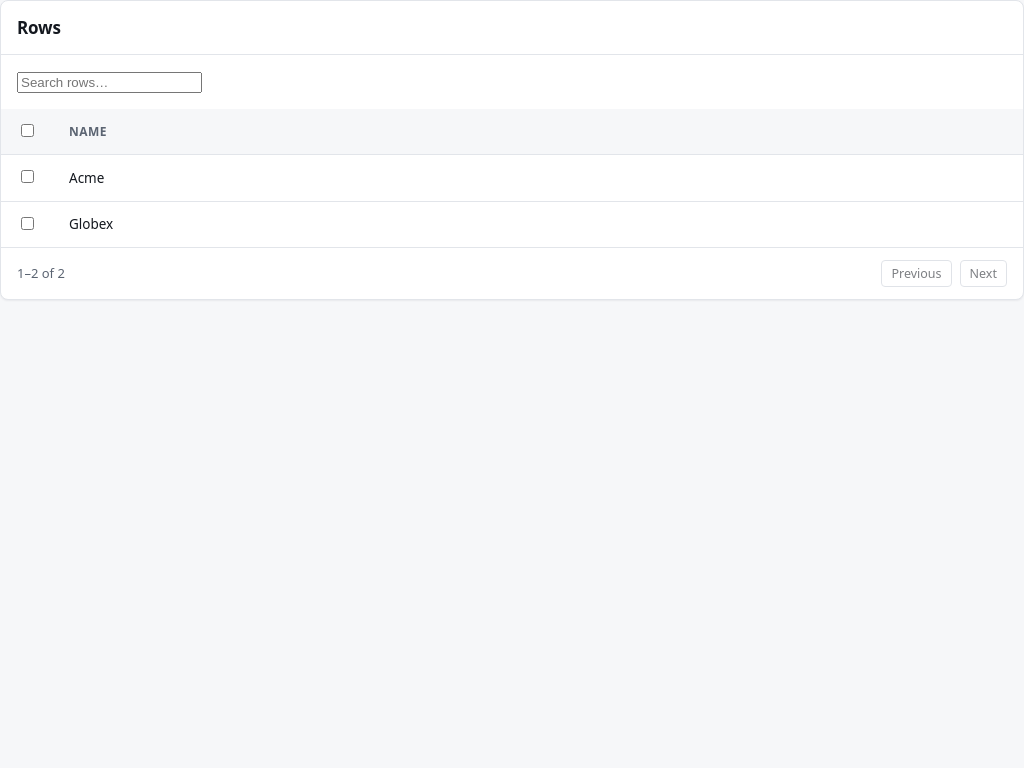
Test: bulk archive › shows the failure when the request itself is refused
The image size is (1024, 768).
expect the text "Acme" is shown: met, box x1=53 y1=155 x2=1023 y2=201
Click the checkbox named "Select all rows on this page" at (28, 131), box x1=21 y1=124 x2=34 y2=137
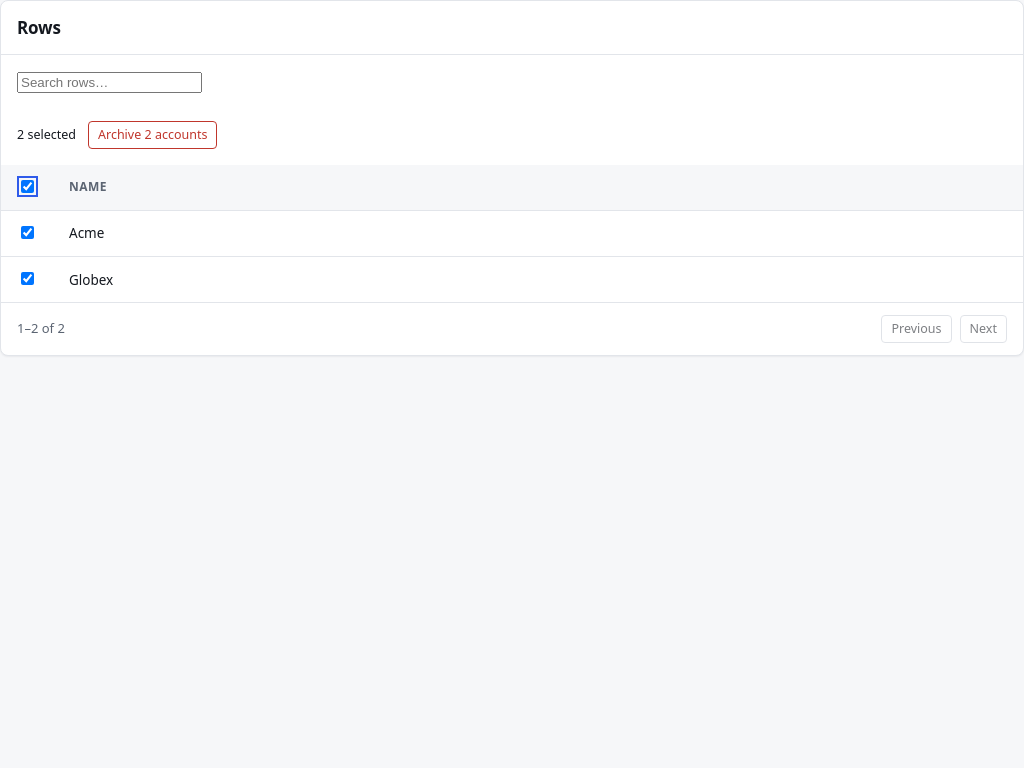
Click the button "Archive 2 accounts" at (153, 135), box x1=88 y1=121 x2=218 y2=149
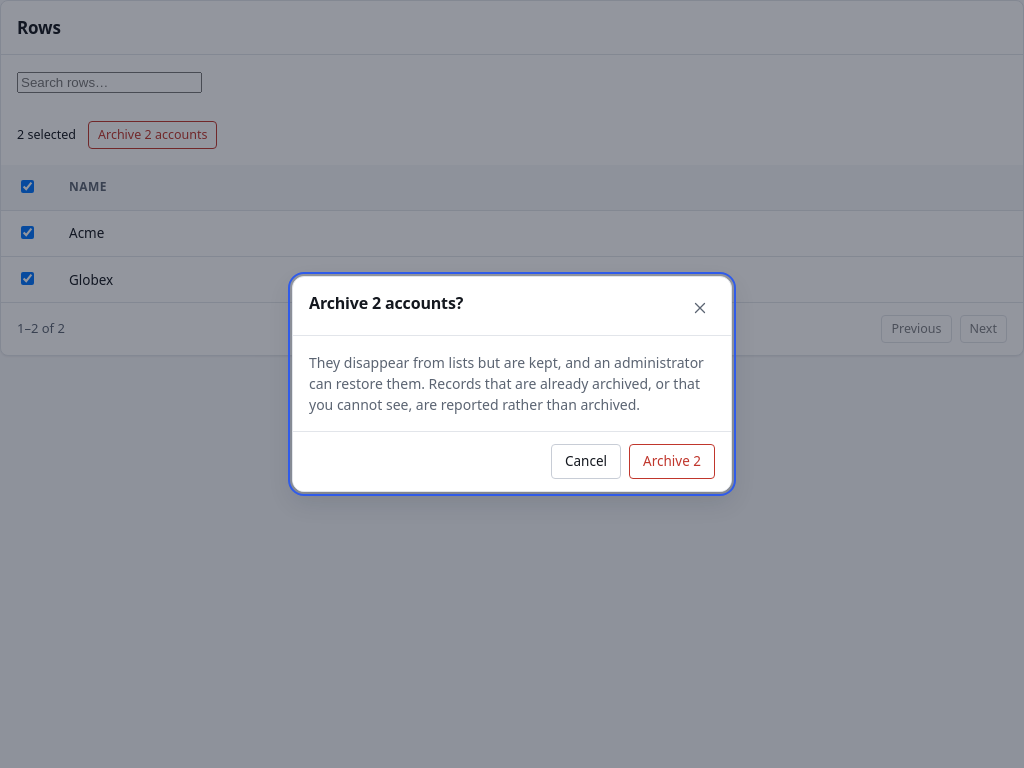
Click the button "Archive 2" at (672, 461), box x1=629 y1=444 x2=715 y2=479
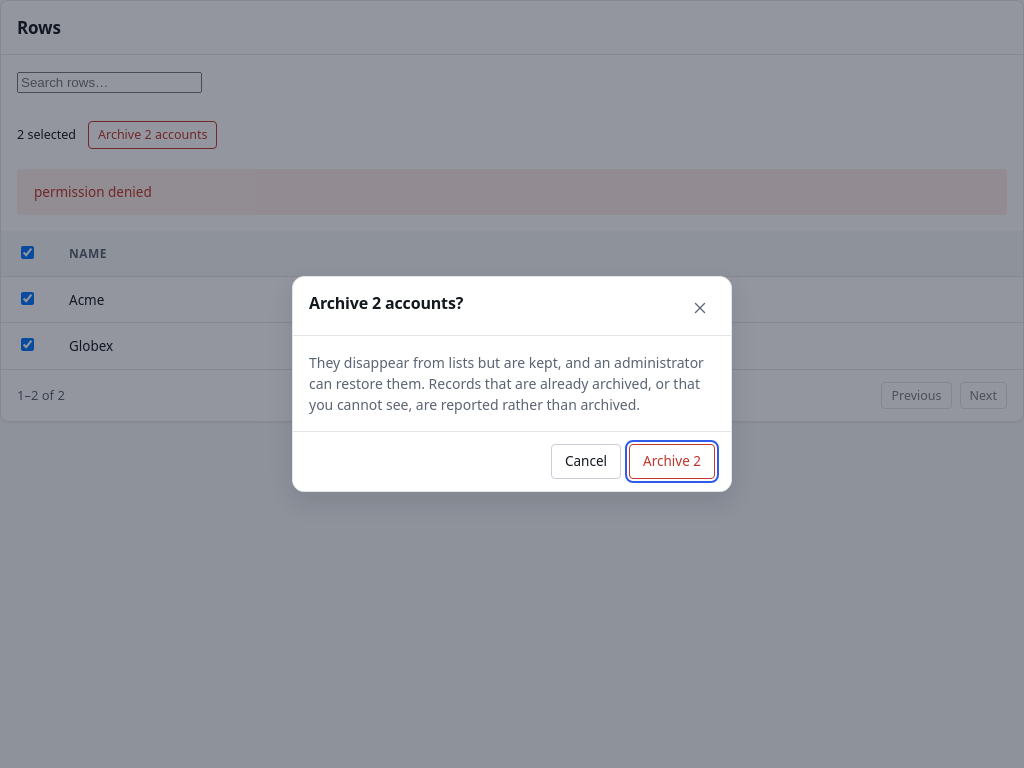
expect the text "permission denied" is shown: met, box x1=17 y1=169 x2=1007 y2=215
